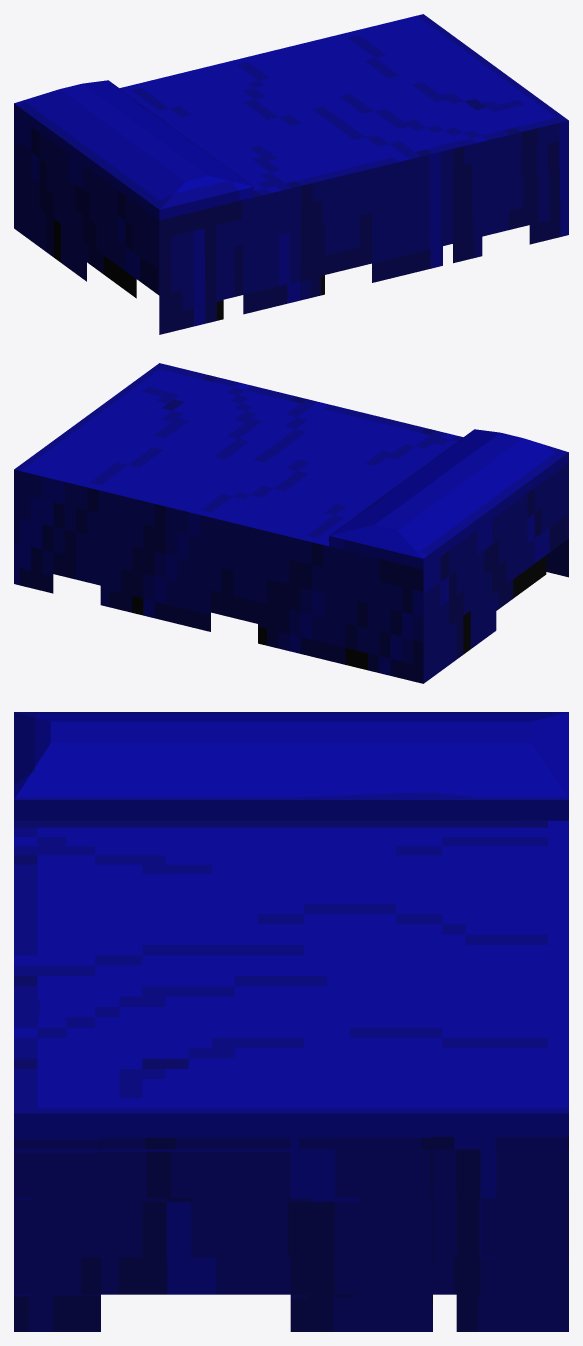
File: bed_696x11.gltf
3 views of the same model, one above another, from view 1: azimuth 30°, elevation 25°; view 2: azimuth 150°, elevation 25°; view 3: azimuth 270°, elevation 25° (orthographic). The views are drawn at different scales.
Visible parts, largest first — view 1: bed_696x11; view 2: bed_696x11; view 3: bed_696x11.
Part boxes in pixels (x1,y1,x2,y2): bed_696x11: (14, 14, 568, 334); bed_696x11: (14, 363, 568, 683); bed_696x11: (14, 712, 568, 1331).
Bounding box in the file's own units: 5.2 × 1.67 × 3.2.
1 material, 1 textured.
